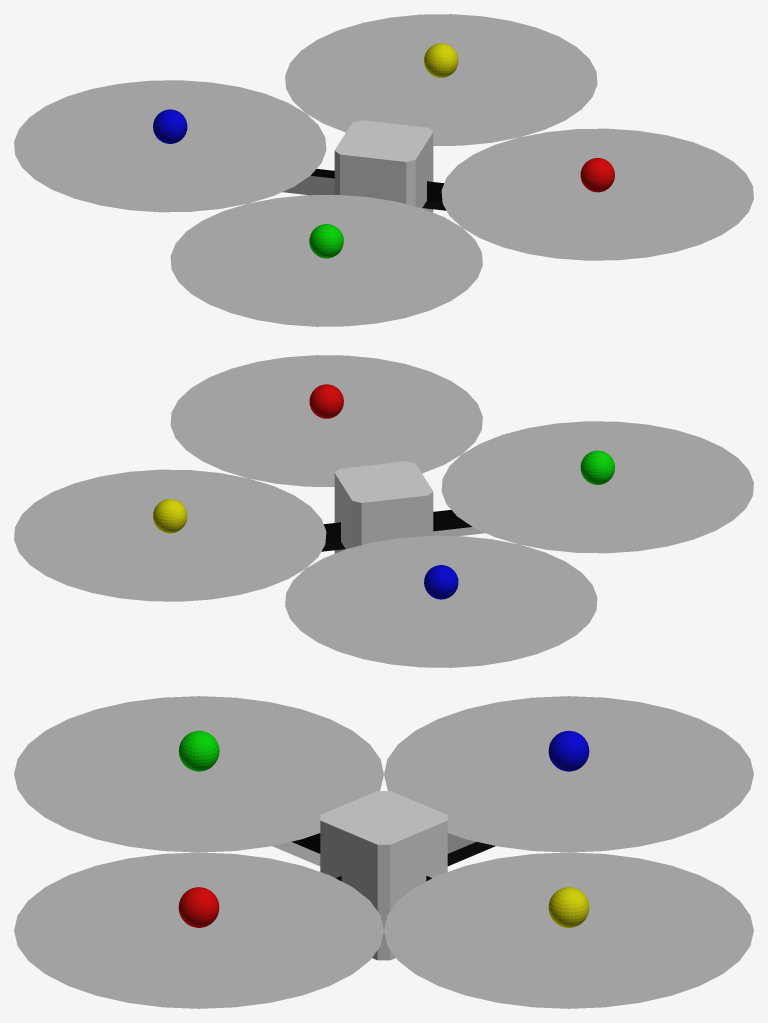
File: quad.obj
3 views of the same model, one above another, from view 1: azimuth 30°, elevation 25°; view 2: azimuth 150°, elevation 25°; view 3: azimuth 270°, elevation 25° (orthographic). The views are drawn at different scales.
Visible parts, largest first — view 1: Quadcopter_Cube; view 2: Quadcopter_Cube; view 3: Quadcopter_Cube.
Boxes of the visible parts, x1=… form: Quadcopter_Cube: x1=14, y1=14, x2=753, y2=326; Quadcopter_Cube: x1=14, y1=355, x2=753, y2=667; Quadcopter_Cube: x1=14, y1=696, x2=753, y2=1008.
Size of the model in its own units: 0.5799 by 0.106 by 0.5799.
